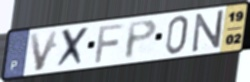0: (163, 13, 191, 56)
F: (93, 22, 127, 65)
N: (190, 9, 225, 55)
P: (124, 18, 160, 61)
V: (28, 28, 61, 73)
X: (54, 25, 92, 71)
